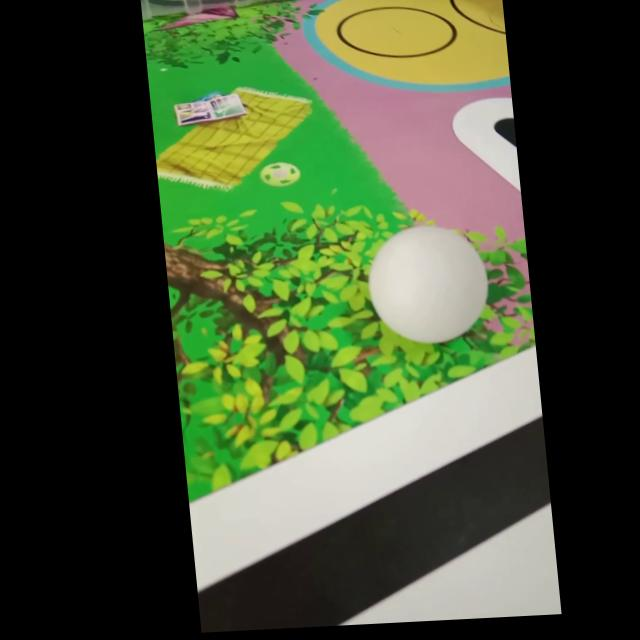white ball: (361, 221, 494, 348)
